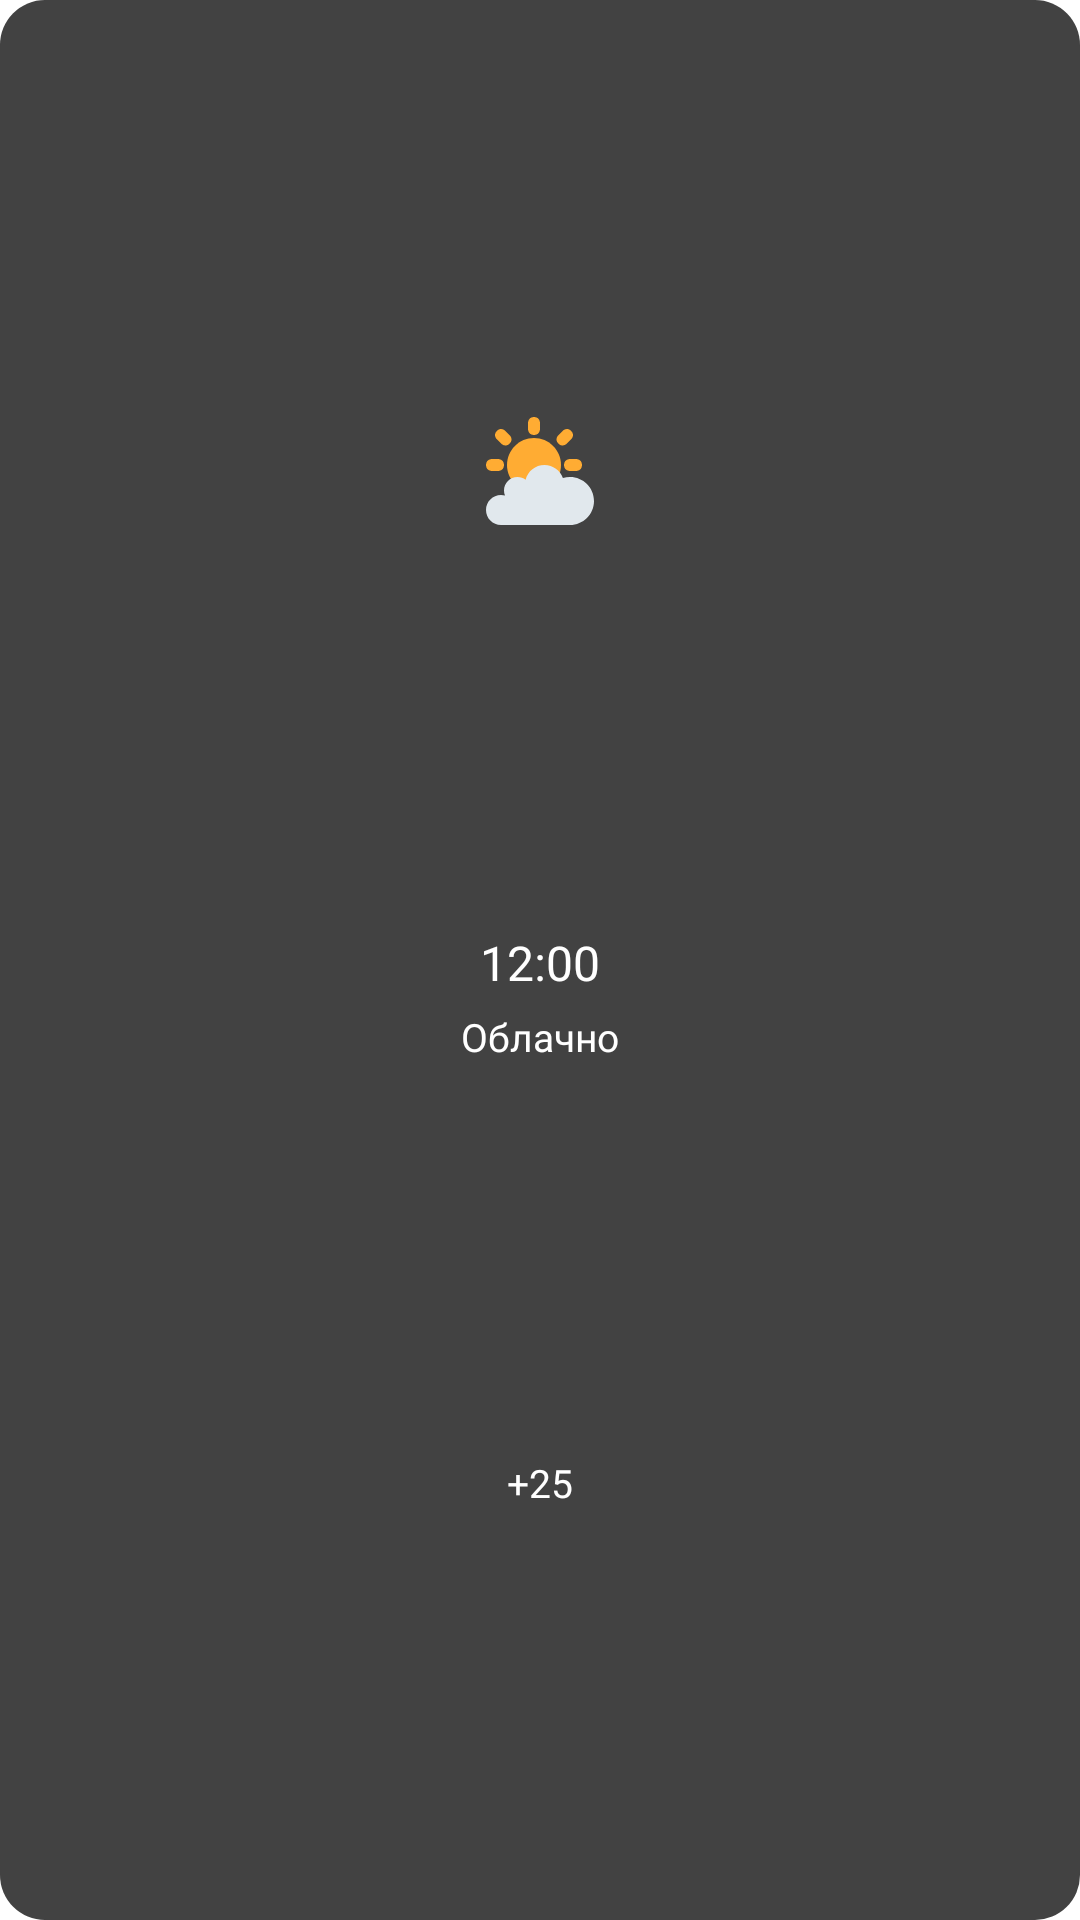

Where to tap for icons on this 1080x1920 app screen, as (x=x, y=y):
cloudy: (x=540, y=471)
